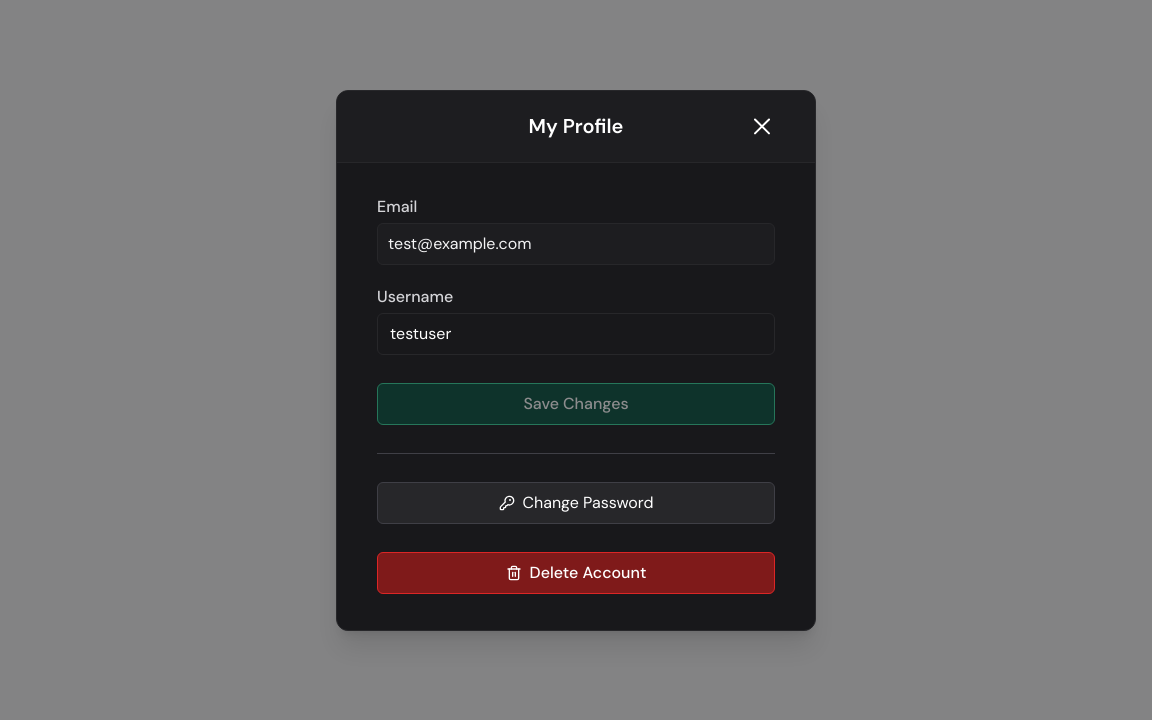
AccountModal › renders delete confirmation flow
Click the button "Delete Account".
click(576, 572)  # box x1=377 y1=552 x2=775 y2=594
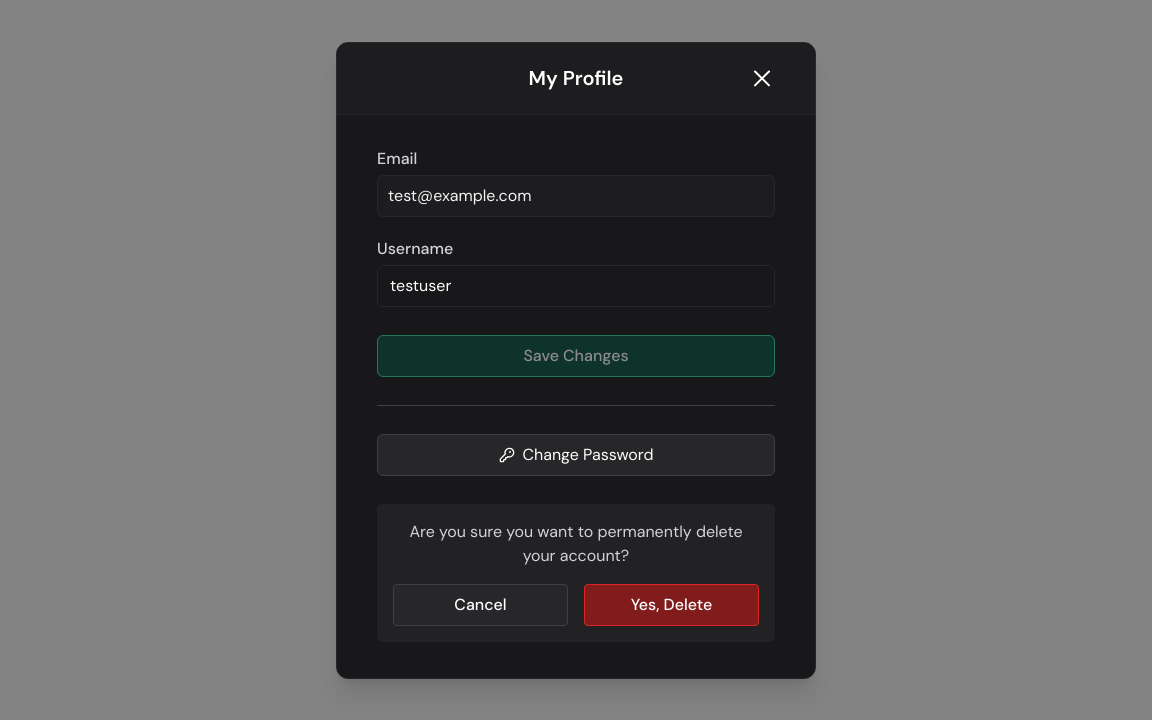
Check: the text "Are you sure you want to permanently delete your account?" is shown, box x1=393 y1=520 x2=759 y2=568
